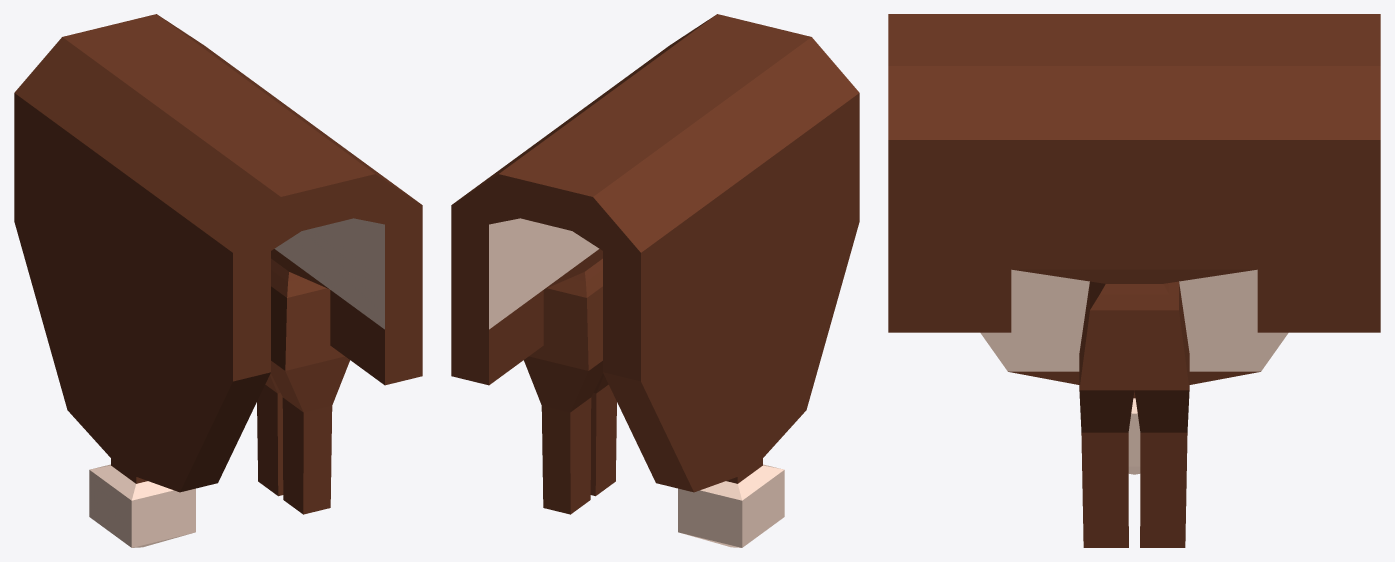
The model's file is hides.glb.
3 renders of one model, left to right at view 1: azimuth 30°, elevation 25°; view 2: azimuth 150°, elevation 25°; view 3: azimuth 270°, elevation 25°, orthographic. The views are drawn at different scales.
Parts seen in each view (by area): view 1: Cube; view 2: Cube; view 3: Cube.
Boxes of the visible parts, x1,y1,x2,y2 form: Cube: [14, 14, 422, 547]; Cube: [451, 14, 859, 547]; Cube: [888, 14, 1380, 547].
Size of the model in its own units: 1.15 by 2.14 by 2.
Materials: 1 (1 with a texture image).
